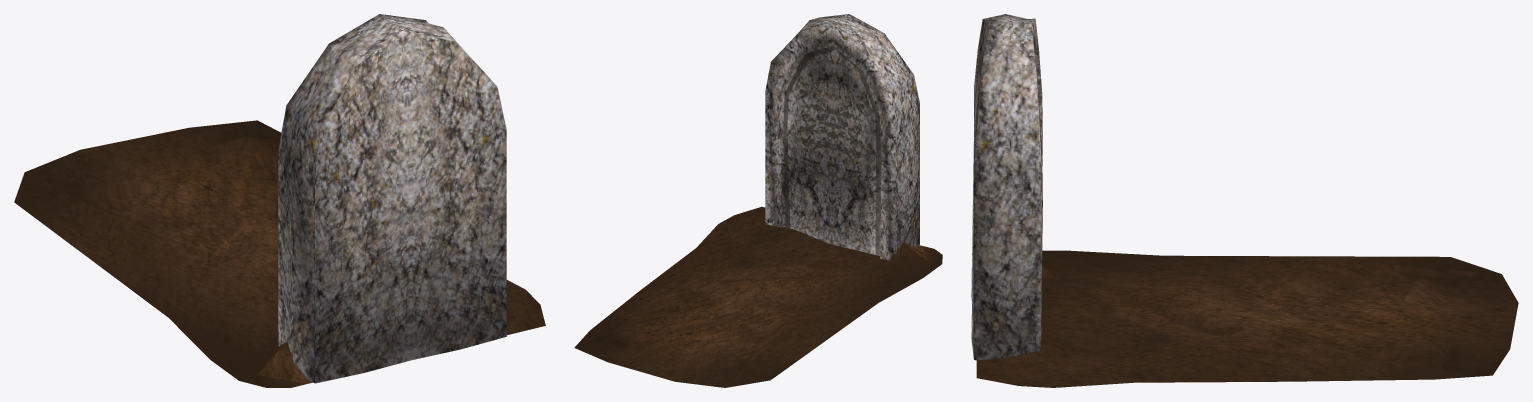
File: grave_ground.glb
The picture shows the model from 3 angles, left to right: view 1: azimuth 30°, elevation 25°; view 2: azimuth 150°, elevation 25°; view 3: azimuth 270°, elevation 25°; orthographic projection. The views are drawn at different scales.
Visible parts, largest first — view 1: ground; view 2: ground; view 3: ground.
Boxes of the visible parts, x1=… form: ground: x1=14, y1=14, x2=545, y2=387; ground: x1=574, y1=14, x2=942, y2=387; ground: x1=971, y1=14, x2=1518, y2=387.
Bounding box in the file's own units: 2 × 2 × 3.36.
Materials: 2 (2 with a texture image).
